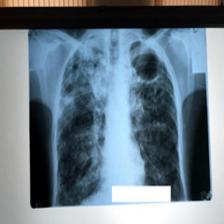tuberculosis: (49, 29, 190, 205)
